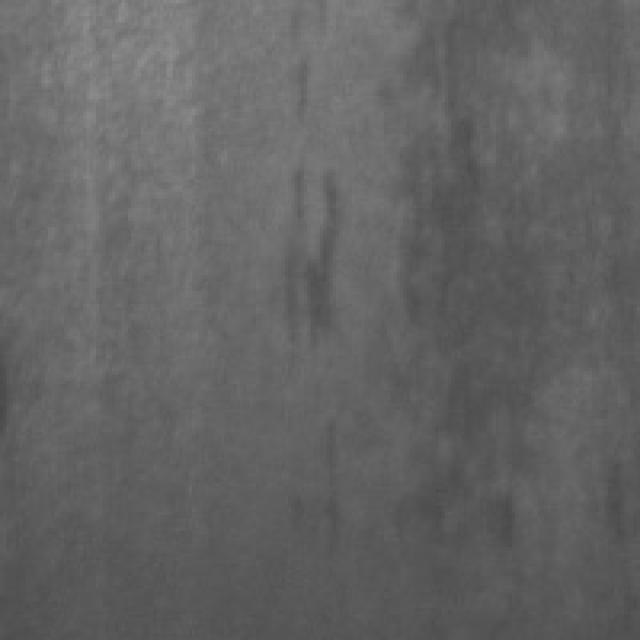inclusion: (409, 12, 566, 570), (269, 144, 365, 368), (304, 403, 368, 570)
